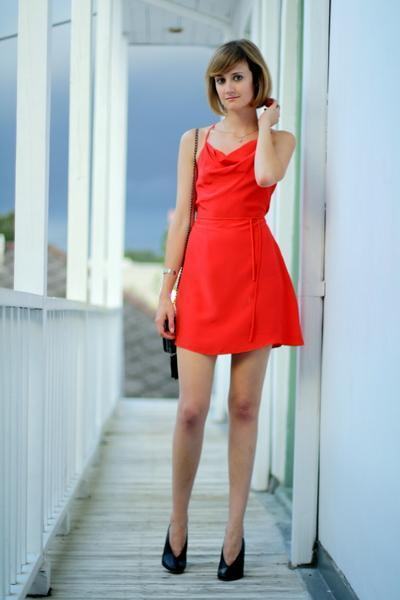dress: (175, 140, 299, 355)
shoe: (162, 540, 246, 580)
